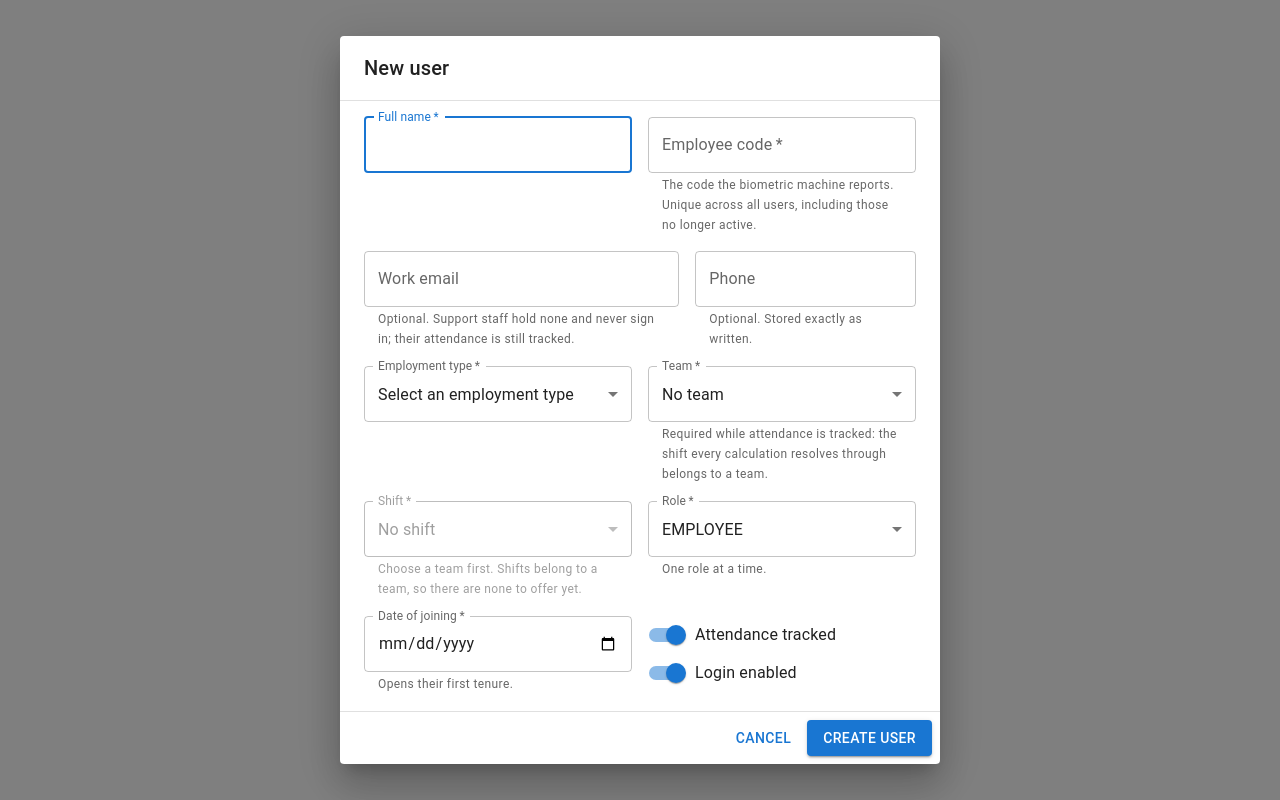
Test: UserFormDialog › forgets a shift belonging to the team just moved away from
Click the dropdown labelled "No team". click: [693, 394]
box: [662,385,724,404]
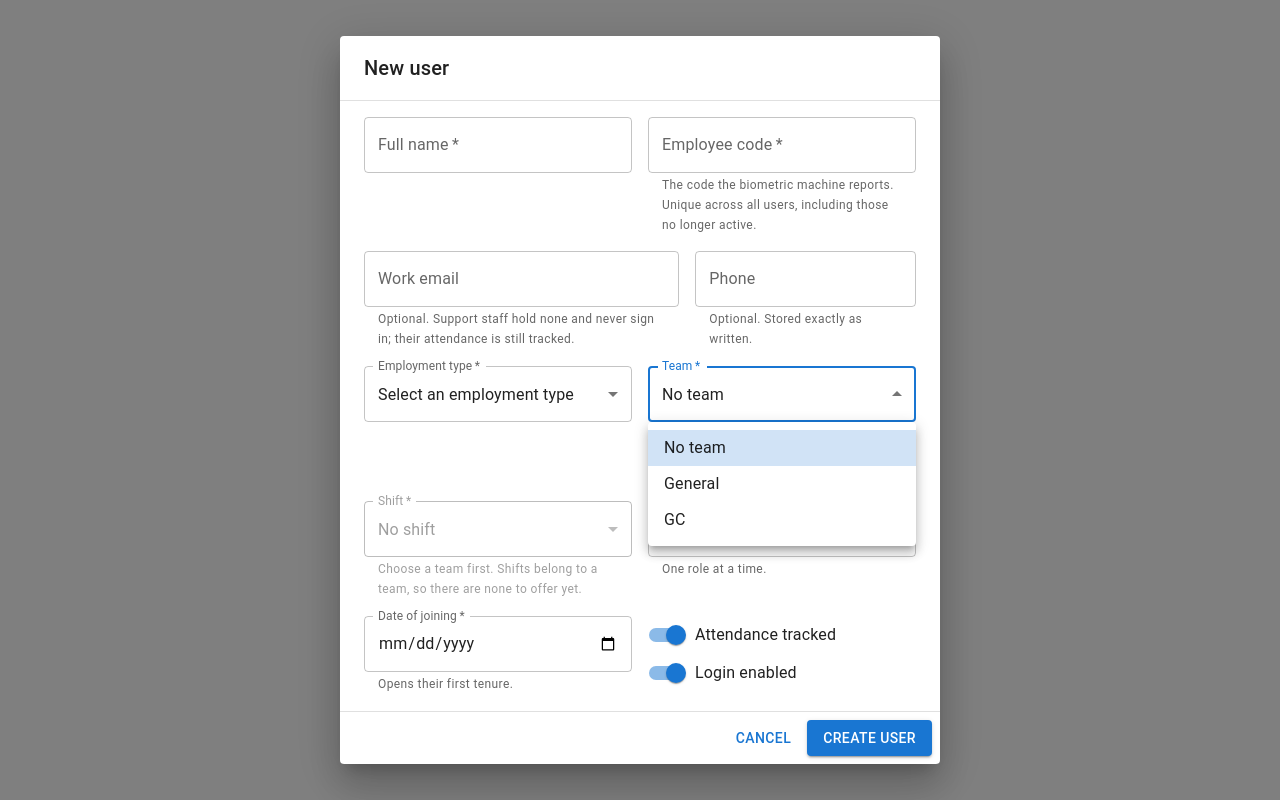
Click the option "General". click: [692, 484]
box: [664,474,720,493]
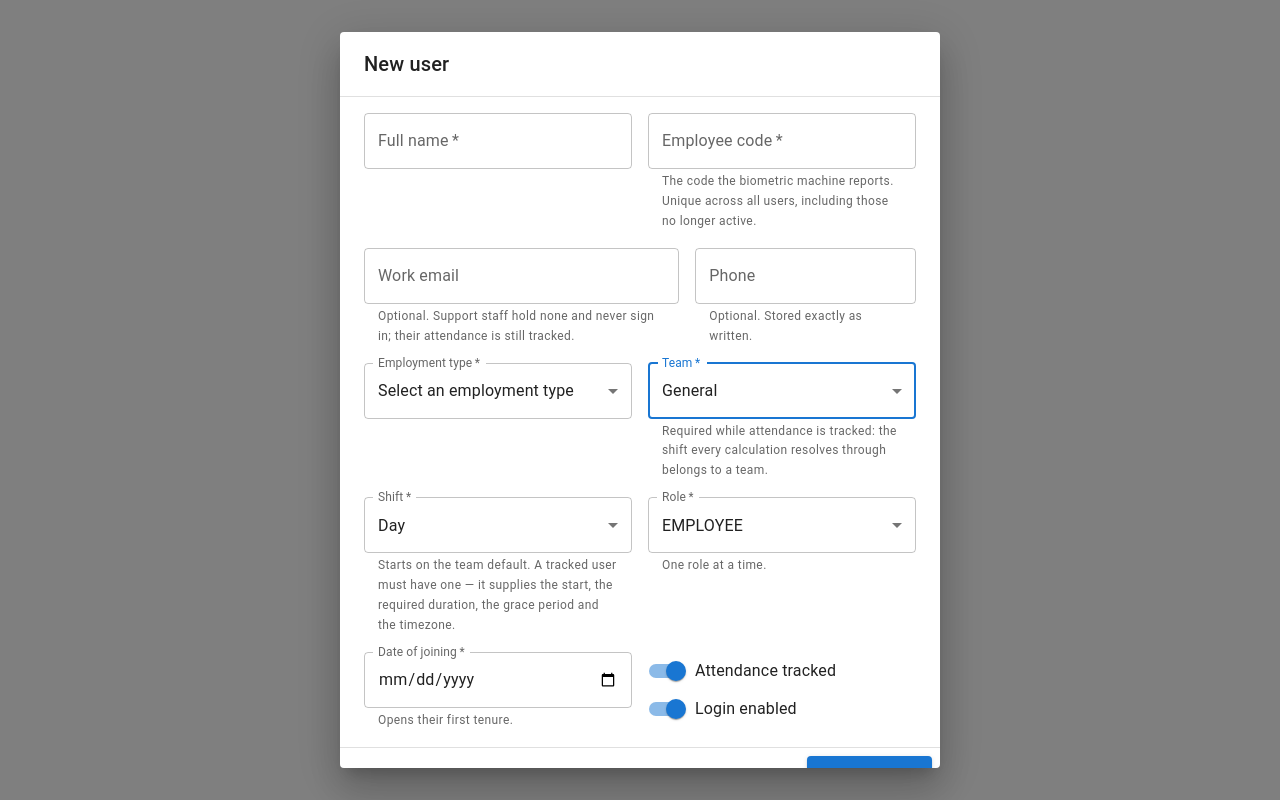
Click the dropdown named "shift". click: [392, 525]
box: [378,516,405,535]
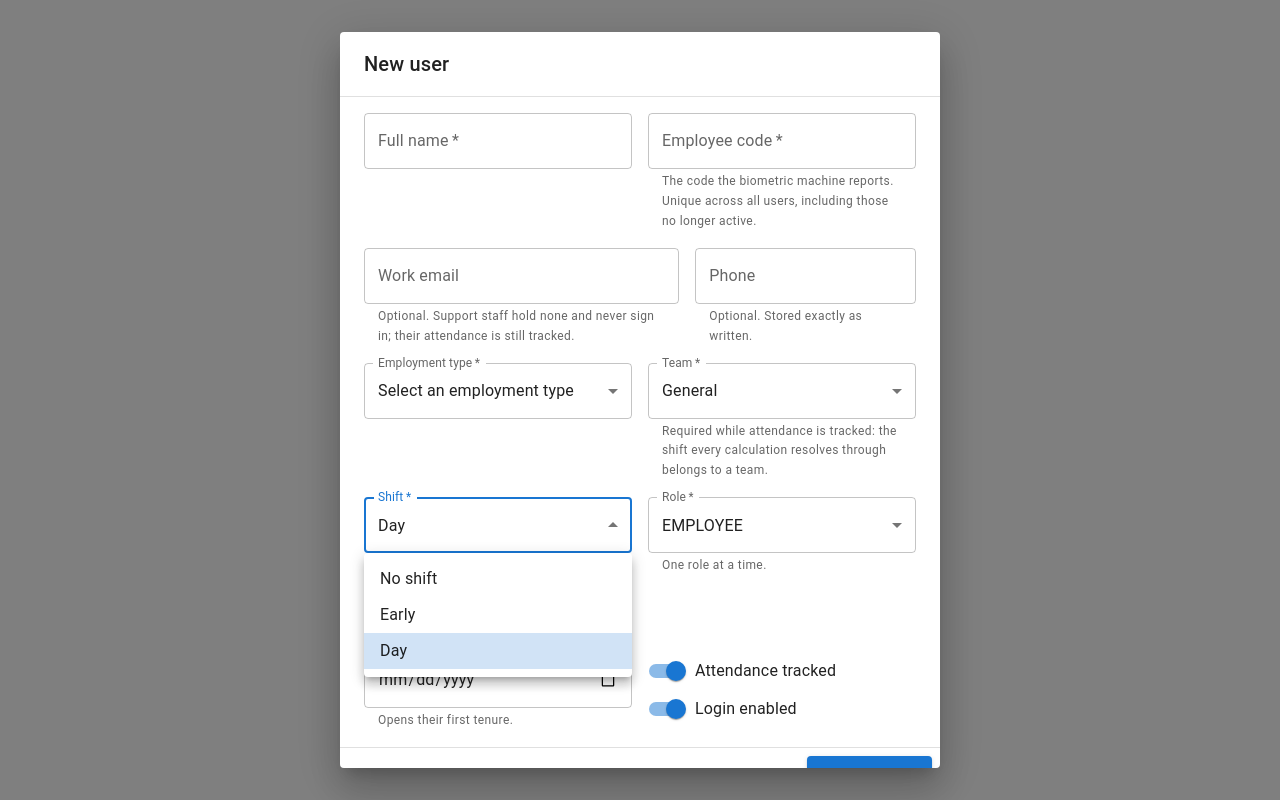
Click the option "Early". click: [398, 614]
box: [380,605,415,624]
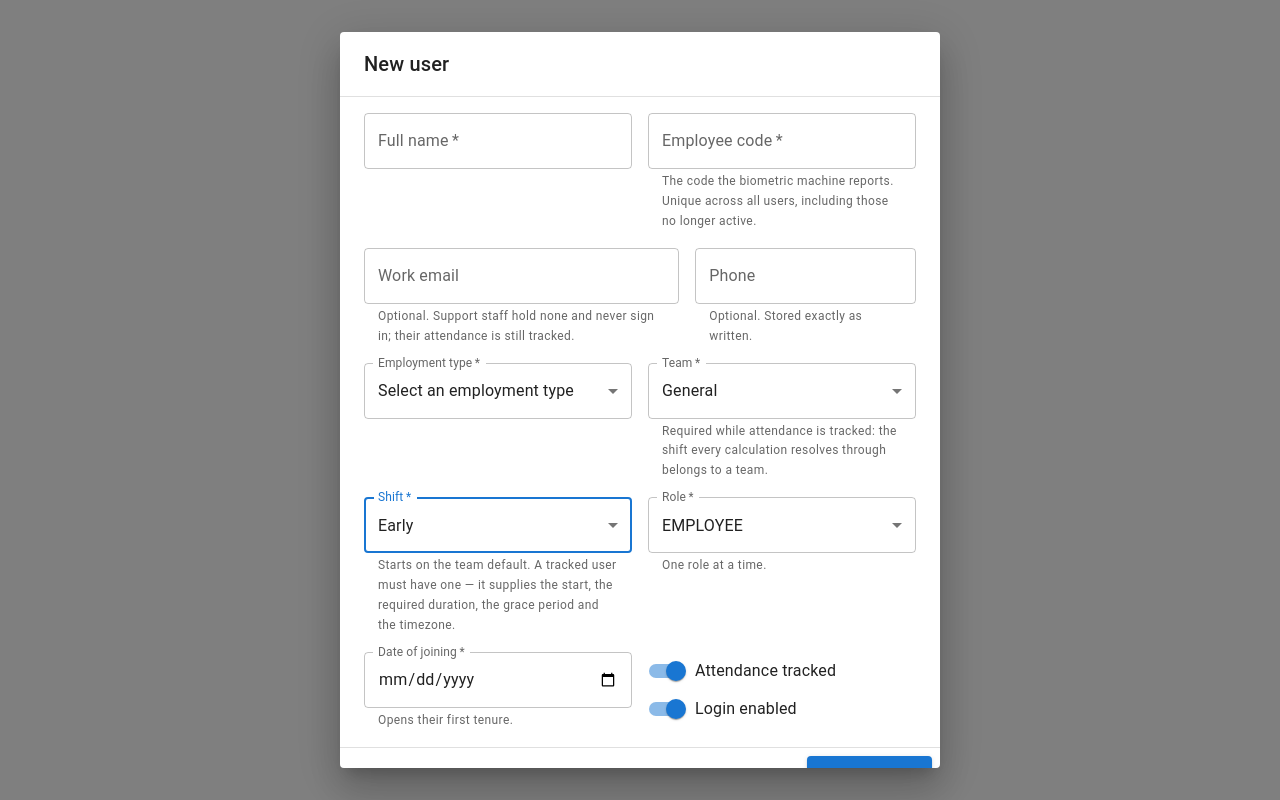
Click the dropdown named "team". click: [690, 390]
box: [662,381,718,400]
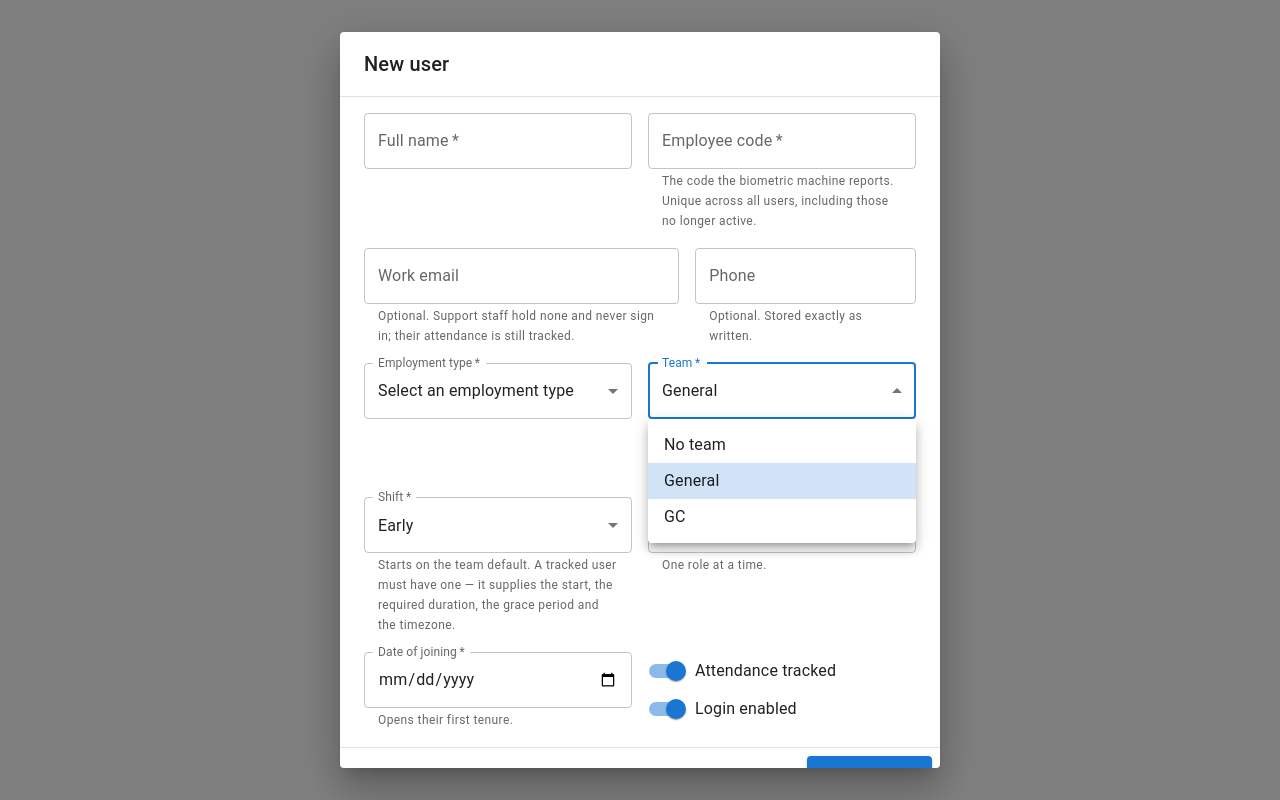
Click the option "GC". click: [675, 516]
box: [664,507,686,526]
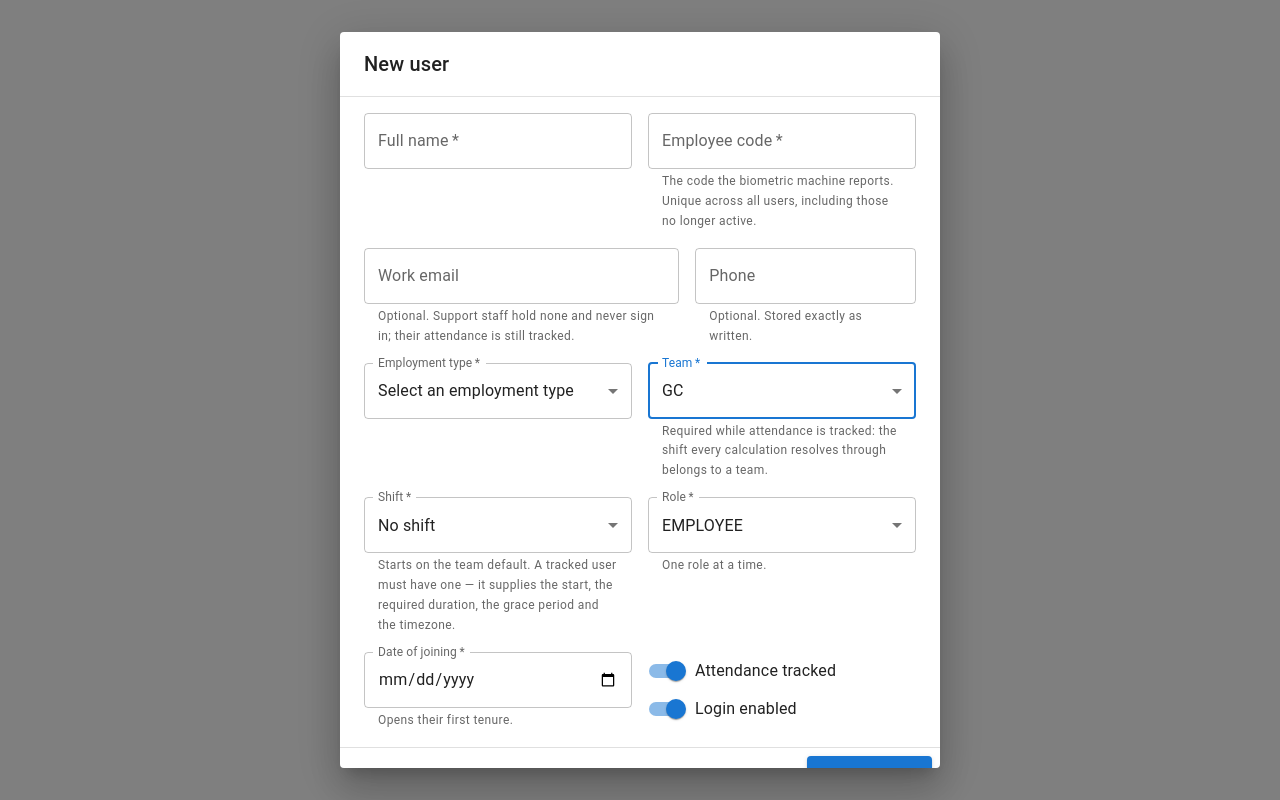
Result: the dropdown labelled "No shift" no longer shows "Early" at [378,516,436,535]
